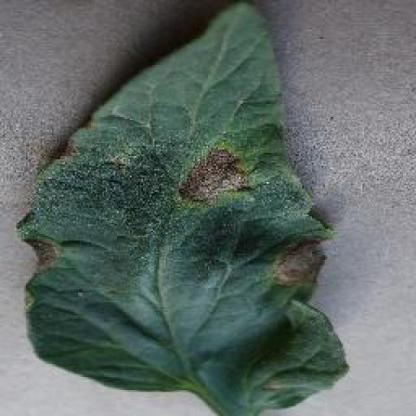Tomato_Blight: (19, 6, 345, 407)
